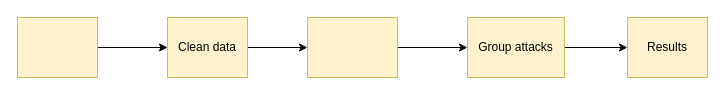
Image size: 725x95. Some labels were removed from this diagram. Each missing label, with the centre of its shape:
"Analyze timming" belongs at point 352,47.
"Log files" belongs at point 57,47.
